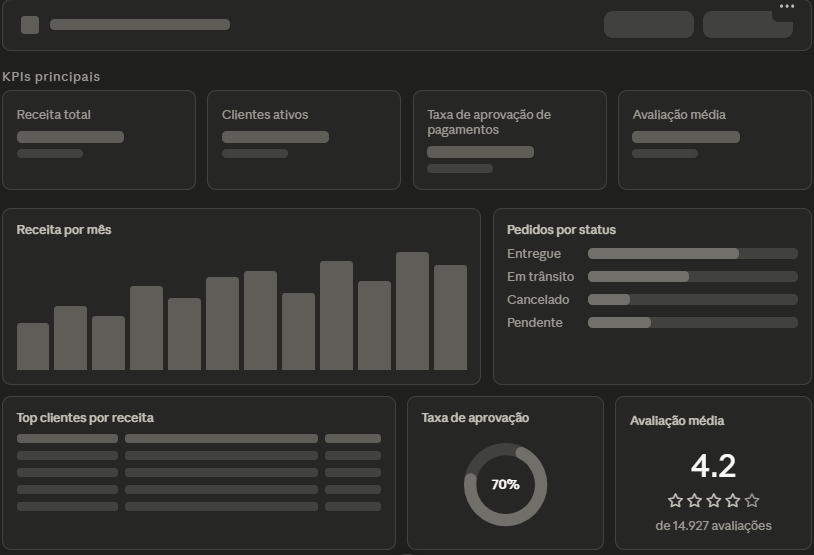

The page's visual inventory and layout, read from the dashboard file:
{"tool":"powerbi","page":{"name":"Dashboard Executivo","canvas":[1280,720],"ordinal":0},"visuals":[{"type":"textbox","box":[10.3,0,467.7,67.1],"z":0},{"type":"cardVisual","fields":{"Data":["Sum(gold_fato_vendas.receita_liquida)"]},"box":[10.3,67.1,290.6,149.6],"z":1000},{"type":"cardVisual","fields":{"Data":["gold_dim_cliente.Clientes Ativos","gold_dim_cliente.Clientes Ativos"]},"box":[300.9,67.1,290.6,149.6],"z":2000},{"type":"cardVisual","fields":{"Data":["gold_dim_cliente.Taxa de Aprovação"]},"box":[591.5,67.1,290.6,149.6],"z":3000},{"type":"cardVisual","fields":{"Data":["gold_dim_cliente.Avaliação Média"]},"box":[882.1,67.1,290.6,149.6],"z":4000},{"type":"columnChart","fields":{"Y":["Sum(gold_fato_vendas.receita_liquida)"],"Category":["gold_dim_tempo.mes"]},"box":[10.7,217.3,628.6,226.2],"z":4001},{"type":"barChart","fields":{"Category":["gold_fato_vendas.status_pedido"],"Y":["Count(gold_fato_vendas.venda_key)"]},"box":[651.1,217.8,628.9,226.7],"z":4002},{"type":"tableEx","fields":{"Values":["gold_dim_cliente.nome","Sum(gold_fato_vendas.receita_liquida)"]},"box":[193.3,464.4,338.9,225.6],"z":4003},{"type":"donutChart","fields":{"Category":["gold_fato_pagamentos.status_pagamento"],"Y":["CountNonNull(gold_fato_pagamentos.pagamento_key)"]},"box":[805.6,455.6,256.7,234.4],"z":4004}]}

Visuals, with their boxes on the page's 1280x720 design canvas (x1, y1, x2, y2). These are canvas units, not pixel positions in the 814x555 screenshot, which may show the page scaled, cropped or inside an application window:
textbox: (10,0,478,67)
cardVisual - Sum(gold_fato_vendas.receita_liquida): (10,67,301,217)
cardVisual - gold_dim_cliente.Clientes Ativos x gold_dim_cliente.Clientes Ativos: (301,67,592,217)
cardVisual - gold_dim_cliente.Taxa de Aprovação: (592,67,882,217)
cardVisual - gold_dim_cliente.Avaliação Média: (882,67,1173,217)
columnChart - Sum(gold_fato_vendas.receita_liquida) x gold_dim_tempo.mes: (11,217,639,444)
barChart - gold_fato_vendas.status_pedido x Count(gold_fato_vendas.venda_key): (651,218,1280,444)
tableEx - gold_dim_cliente.nome x Sum(gold_fato_vendas.receita_liquida): (193,464,532,690)
donutChart - gold_fato_pagamentos.status_pagamento x CountNonNull(gold_fato_pagamentos.pagamento_key): (806,456,1062,690)
